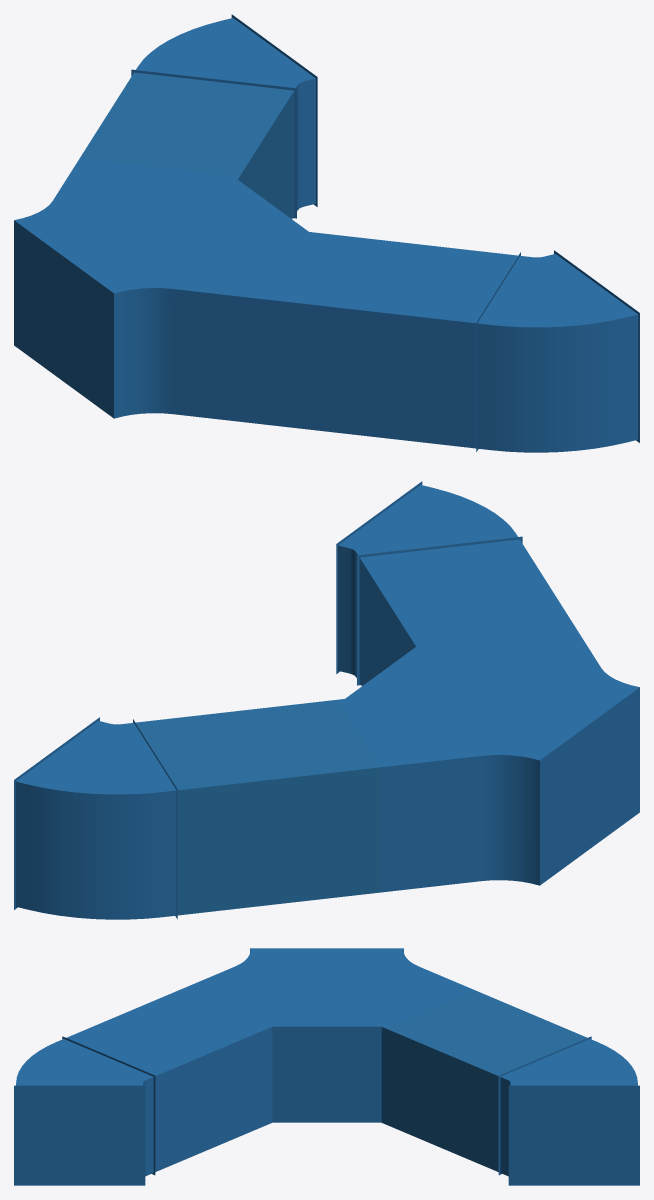
Rendered from Phase17 (2).fbx.
The picture shows the model from 3 angles, top to bottom: view 1: azimuth 30°, elevation 25°; view 2: azimuth 150°, elevation 25°; view 3: azimuth 270°, elevation 25°; orthographic projection. The views are drawn at different scales.
Parts seen in each view (by area): view 1: 18:Стандартное:542942, Воздуховод прямоугольного сечения:CPS_Оцинковка_Тройники_ГОС (×2), CPS_Отвод_Прямоугольный:Стандарт:587551, CPS_Отвод_Прямоугольный:Стандарт:587589; view 2: 18:Стандартное:542942, Воздуховод прямоугольного сечения:CPS_Оцинковка_Тройники_ГОС (×2), CPS_Отвод_Прямоугольный:Стандарт:587589, CPS_Отвод_Прямоугольный:Стандарт:587551; view 3: Воздуховод прямоугольного сечения:CPS_Оцинковка_Тройники_ГОС (×2), 18:Стандартное:542942, CPS_Отвод_Прямоугольный:Стандарт:587551, CPS_Отвод_Прямоугольный:Стандарт:587589.
Boxes of the visible parts, left/top/right/bottom form: 18:Стандартное:542942: left=14, top=158, right=315, bottom=425; Воздуховод прямоугольного сечения:CPS_Оцинковка_Тройники_ГОС (×2): left=79, top=72, right=517, bottom=448; CPS_Отвод_Прямоугольный:Стандарт:587551: left=476, top=250, right=639, bottom=452; CPS_Отвод_Прямоугольный:Стандарт:587589: left=131, top=14, right=317, bottom=218; 18:Стандартное:542942: left=338, top=625, right=639, bottom=892; Воздуховод прямоугольного сечения:CPS_Оцинковка_Тройники_ГОС (×2): left=136, top=539, right=574, bottom=915; CPS_Отвод_Прямоугольный:Стандарт:587589: left=14, top=717, right=177, bottom=919; CPS_Отвод_Прямоугольный:Стандарт:587551: left=336, top=481, right=522, bottom=685; Воздуховод прямоугольного сечения:CPS_Оцинковка_Тройники_ГОС (×2): left=66, top=990, right=587, bottom=1171; 18:Стандартное:542942: left=179, top=948, right=474, bottom=1123; CPS_Отвод_Прямоугольный:Стандарт:587551: left=14, top=1036, right=155, bottom=1185; CPS_Отвод_Прямоугольный:Стандарт:587589: left=498, top=1036, right=639, bottom=1185.
Bounding box in the file's own units: 3109 × 5907 × 1040.
